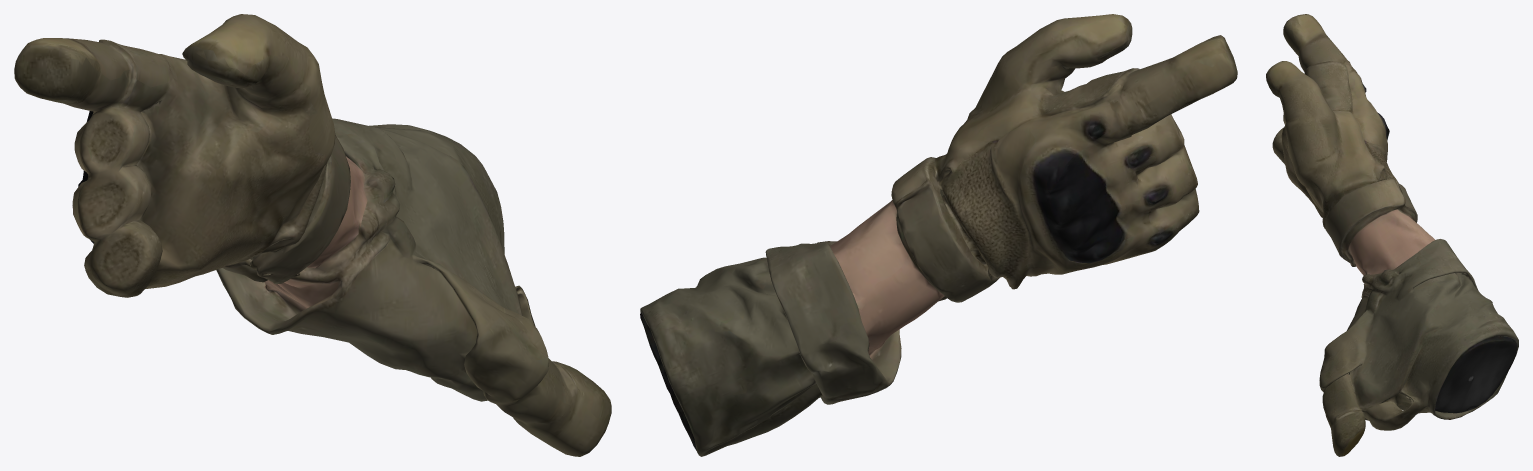
File: vm_arm_right.glb
3 views of the same model, side by side, from view 1: azimuth 30°, elevation 25°; view 2: azimuth 150°, elevation 25°; view 3: azimuth 270°, elevation 25° (orthographic). The views are drawn at different scales.
Parts seen in each view (by area): view 1: world; view 2: world; view 3: world.
Part boxes in pixels (x1=…): world: x1=14, y1=14, x2=611, y2=456; world: x1=640, y1=14, x2=1237, y2=456; world: x1=1266, y1=14, x2=1518, y2=456.
Bounding box in the file's own units: 0.8871 × 0.7814 × 0.5996.
Materials: 1 (1 with a texture image).
